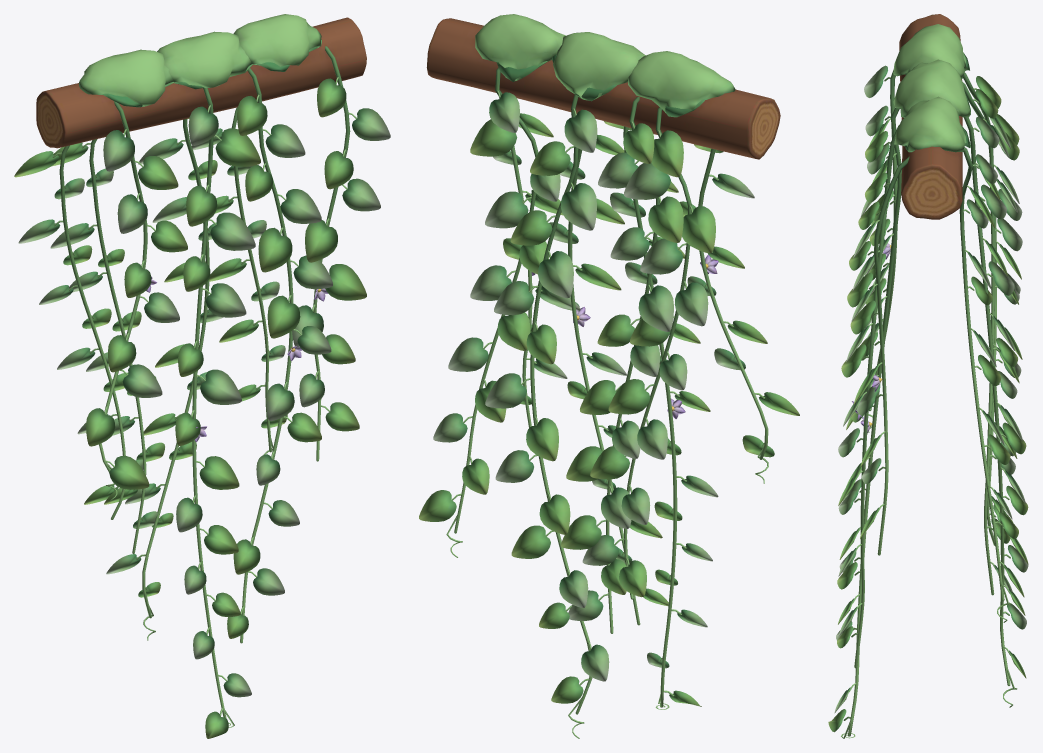
The model's file is hanging-vine.glb.
3 views of the same model, side by side, from view 1: azimuth 30°, elevation 25°; view 2: azimuth 150°, elevation 25°; view 3: azimuth 270°, elevation 25° (orthographic). The views are drawn at different scales.
Parts seen in each view (by area): view 1: hanging-vine_body; view 2: hanging-vine_body; view 3: hanging-vine_body.
Part boxes in pixels (bbox=[...]): hanging-vine_body: bbox=[14, 14, 390, 738]; hanging-vine_body: bbox=[419, 14, 799, 738]; hanging-vine_body: bbox=[828, 14, 1028, 738].
Size of the model in its own units: 0.5012 by 1.03 by 0.2778.
1 material, 1 textured.
